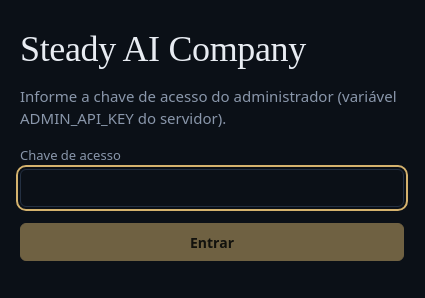
it: Login › mostra erro com chave errada e não guarda a chave
In the password field labelled "Chave de acesso": (212, 188) [20,169,404,207], type "errada"
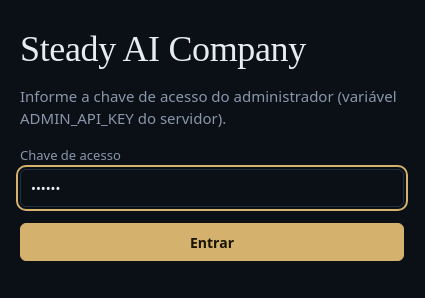
Click the button "Entrar": (212, 242) [20,223,404,261]
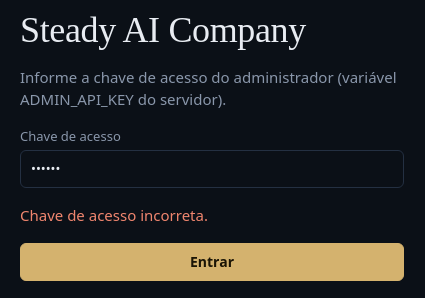
Expected: the message shows "Chave de acesso incorreta", [20,205,208,225]
